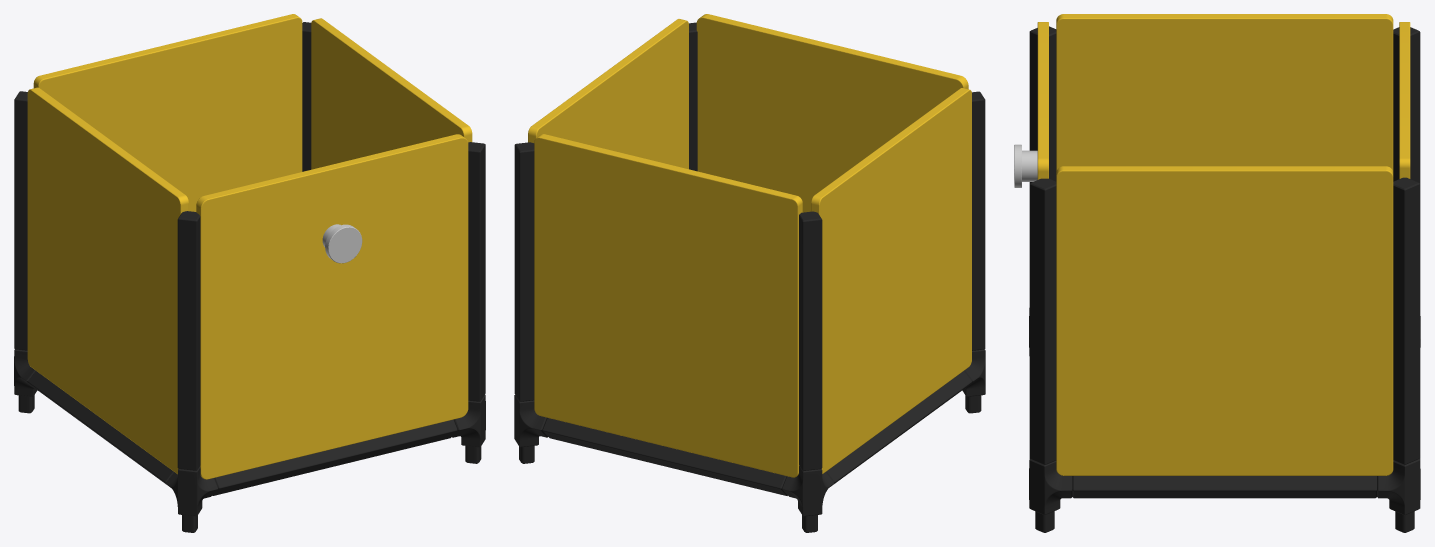
3 renders of one model, left to right at view 1: azimuth 30°, elevation 25°; view 2: azimuth 150°, elevation 25°; view 3: azimuth 270°, elevation 25°, orthographic. The views are drawn at different scales.
Parts seen in each view (by area): view 1: 35x35_modul; view 2: 35x35_modul; view 3: 35x35_modul.
Boxes of the visible parts, x1,y1,x2,y2 form: 35x35_modul: [14, 14, 485, 532]; 35x35_modul: [514, 14, 985, 532]; 35x35_modul: [1014, 14, 1420, 532].
Size of the model in its own units: 0.3515 by 0.3585 by 0.3641.
